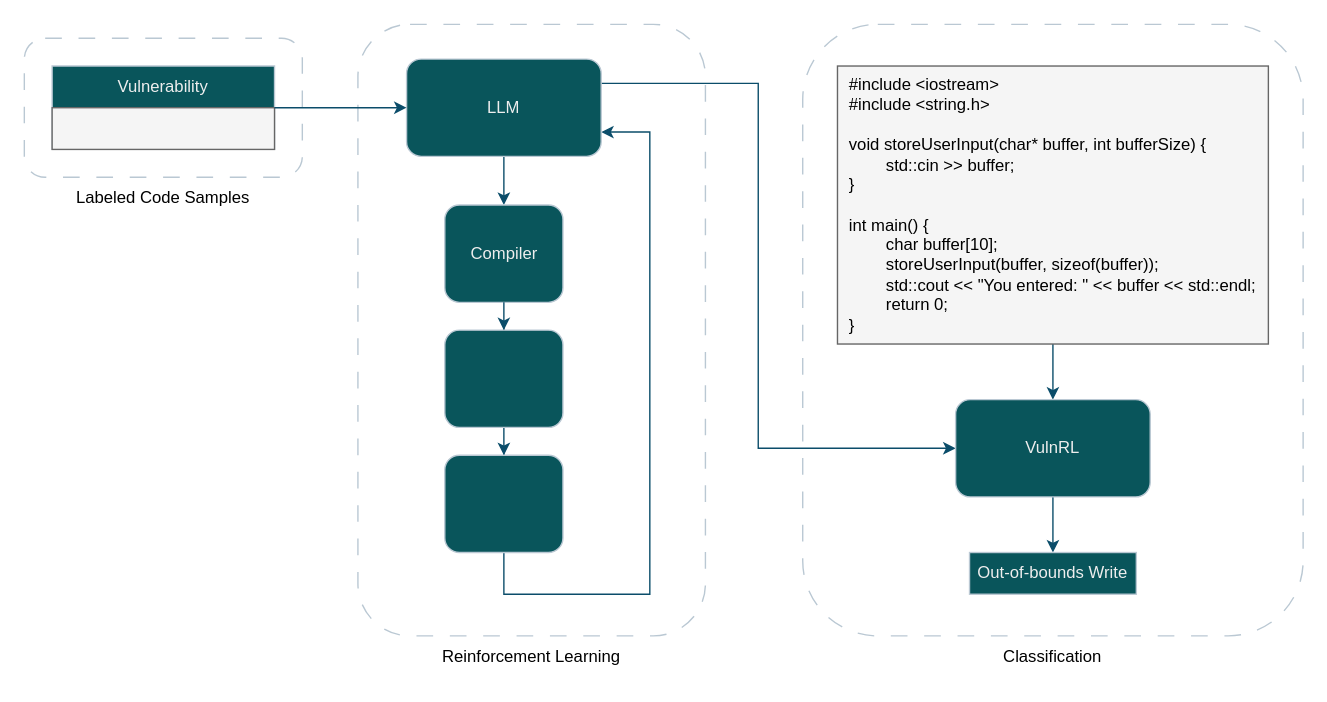
Some shapes in this 1327 by 702 pixel diagram are drawn without their labels. Here are the shapes that lost their labels. From the top down, the box of each, then its label:
(51, 106, 275, 149): Code
(443, 329, 563, 427): Static Analyzer
(443, 454, 563, 553): Sanitizer
